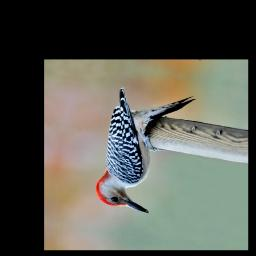Woodpecker: (84, 75, 204, 223)
